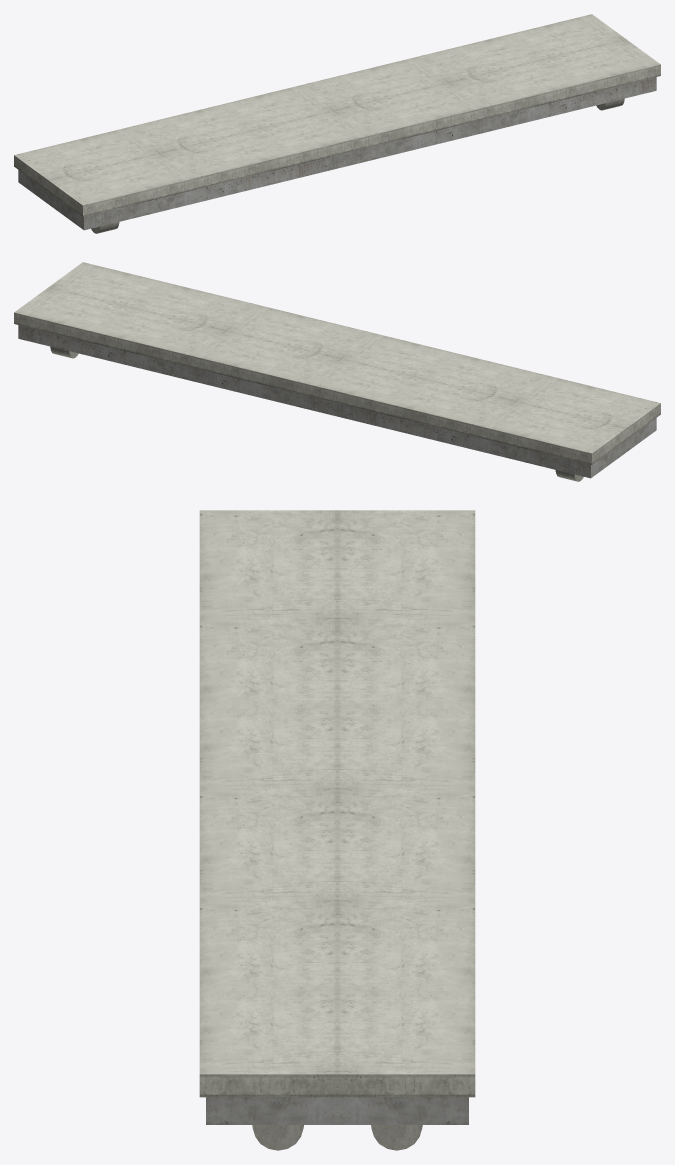
File: sp_tenstrplite.FBX
3 views of the same model, one above another, from view 1: azimuth 30°, elevation 25°; view 2: azimuth 150°, elevation 25°; view 3: azimuth 270°, elevation 25° (orthographic). The views are drawn at different scales.
Parts seen in each view (by area): view 1: sp_tenstrplite; view 2: sp_tenstrplite; view 3: sp_tenstrplite.
Part boxes in pixels (x1=…): sp_tenstrplite: x1=14, y1=14, x2=660, y2=233; sp_tenstrplite: x1=14, y1=262, x2=660, y2=481; sp_tenstrplite: x1=199, y1=510, x2=475, y2=1150.
Bounding box in the file's own units: 40.9 × 8.45 × 3.34.
